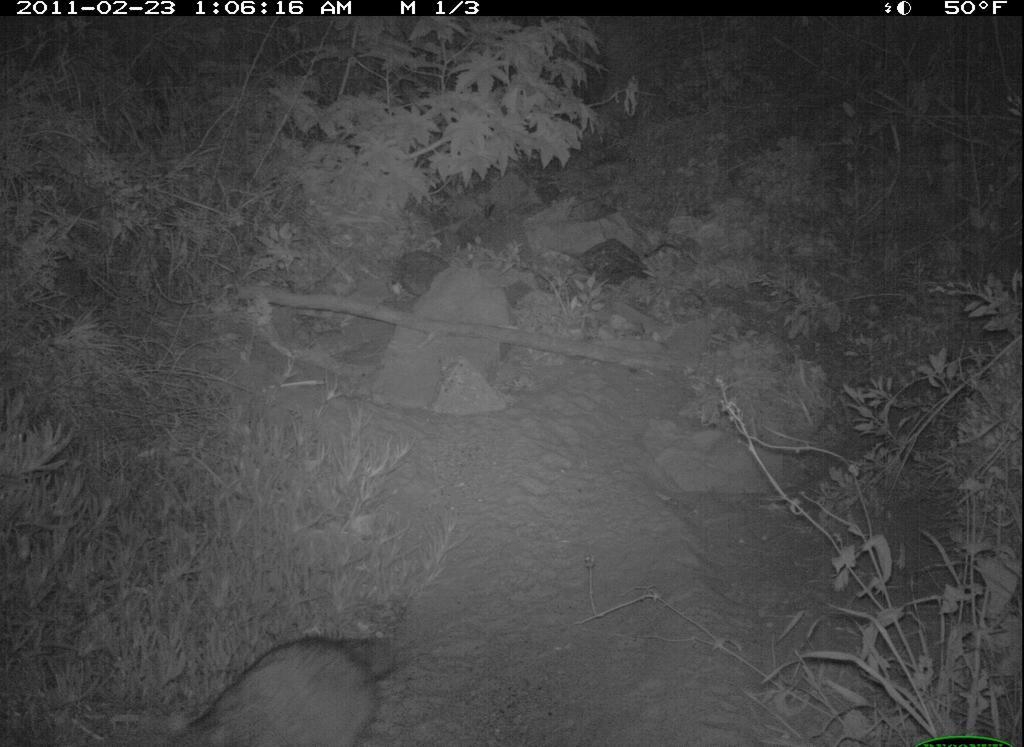raccoon: (162, 624, 417, 745)
